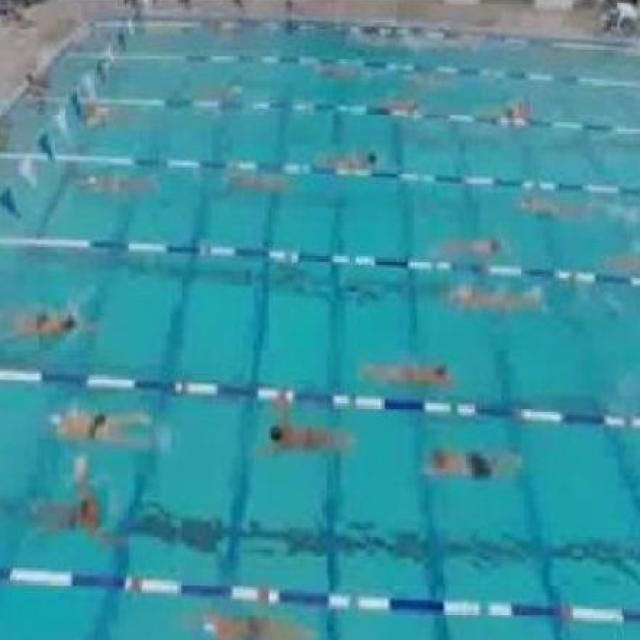Swimming: (41, 406, 153, 449), (24, 481, 111, 536), (416, 447, 519, 483), (187, 612, 319, 640), (259, 414, 342, 456), (1, 302, 94, 339), (441, 282, 548, 314), (354, 358, 456, 387), (438, 235, 506, 259)
